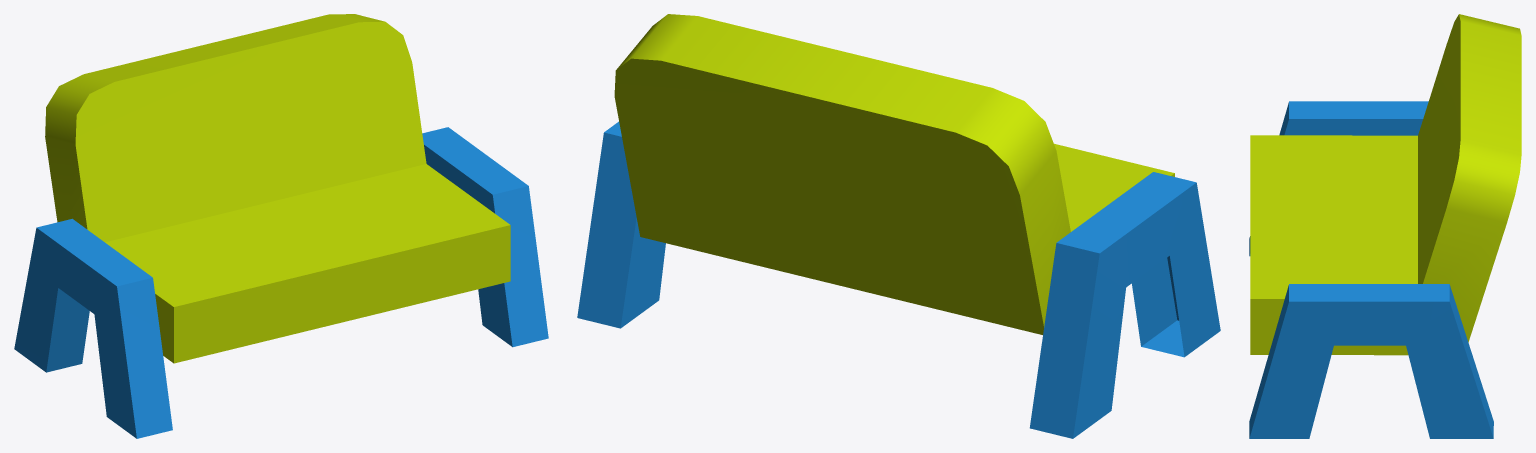
File: bench01_s02.FBX
3 views of the same model, side by side, from view 1: azimuth 30°, elevation 25°; view 2: azimuth 150°, elevation 25°; view 3: azimuth 270°, elevation 25° (orthographic). The views are drawn at different scales.
Visible parts, largest first — view 1: bench01_s02; view 2: bench01_s02; view 3: bench01_s02.
Boxes of the visible parts, left/top/right/bottom form: bench01_s02: left=14, top=14, right=548, bottom=438; bench01_s02: left=577, top=14, right=1220, bottom=438; bench01_s02: left=1249, top=14, right=1521, bottom=438.
Bounding box in the file's own units: 180 × 103 × 108.
1 material, 1 textured.
